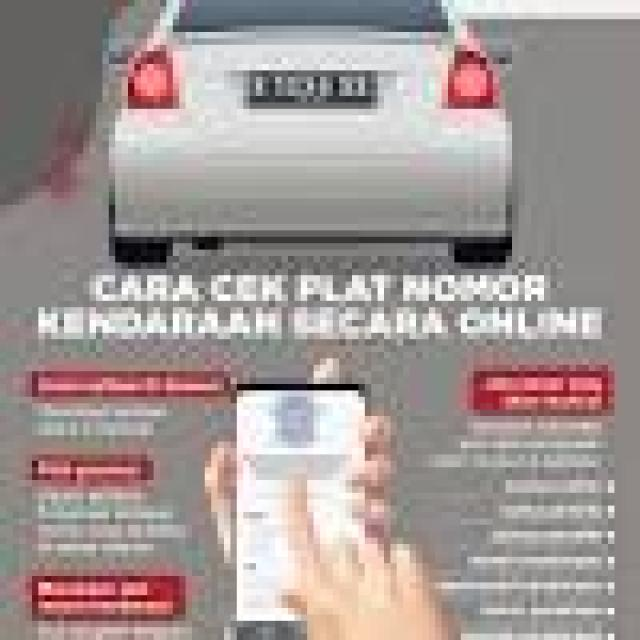lisence-plate: (236, 69, 402, 125)
